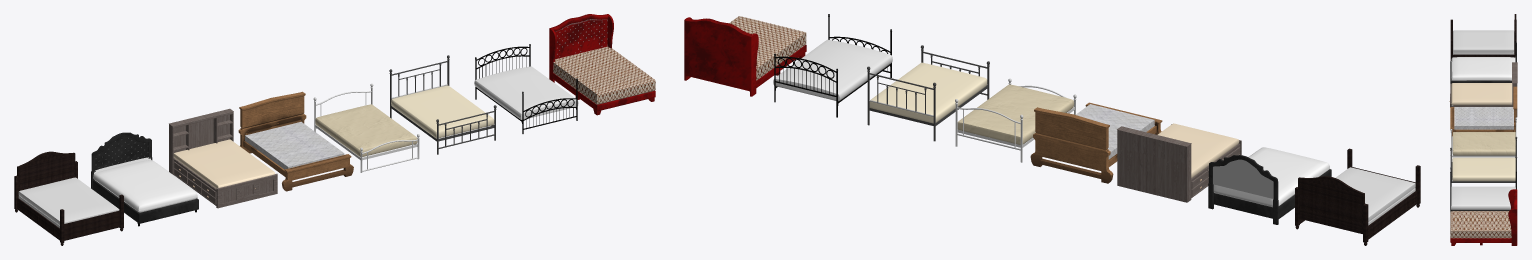
The model's file is double_bed.fbx.
3 renders of one model, left to right at view 1: azimuth 30°, elevation 25°; view 2: azimuth 150°, elevation 25°; view 3: azimuth 270°, elevation 25°, orthographic. The views are drawn at different scales.
Parts seen in each view (by area): view 1: Boles Full Panel Bed with 6 Drawers.001, Yusuf Tufted Upholstered Low Profile Standard Bed.004, double_bed_1, Copper Grove Aanekoski, Boyden Victoria Upholstered Platform Bed, Lyster Platform Bed.001, Mcdonough Canopy Bed, Eichhorn Platform Bed; view 2: Yusuf Tufted Upholstered Low Profile Standard Bed.004, Boles Full Panel Bed with 6 Drawers.001, Copper Grove Aanekoski, double_bed_1, Boyden Victoria Upholstered Platform Bed, Lyster Platform Bed.001, Mcdonough Canopy Bed, Eichhorn Platform Bed; view 3: Yusuf Tufted Upholstered Low Profile Standard Bed.004, Copper Grove Aanekoski, Lyster Platform Bed.001, double_bed_1, Eichhorn Platform Bed, Boles Full Panel Bed with 6 Drawers.001, Boyden Victoria Upholstered Platform Bed, Mcdonough Canopy Bed.
Part boxes in pixels (bbox=[...]): Boles Full Panel Bed with 6 Drawers.001: bbox=[169, 108, 277, 208]; Yusuf Tufted Upholstered Low Profile Standard Bed.004: bbox=[549, 14, 655, 115]; double_bed_1: bbox=[238, 91, 353, 191]; Copper Grove Aanekoski: bbox=[14, 151, 123, 245]; Boyden Victoria Upholstered Platform Bed: bbox=[91, 132, 198, 226]; Lyster Platform Bed.001: bbox=[389, 55, 496, 154]; Mcdonough Canopy Bed: bbox=[474, 44, 578, 133]; Eichhorn Platform Bed: bbox=[313, 83, 419, 172]; Yusuf Tufted Upholstered Low Profile Standard Bed.004: bbox=[684, 16, 806, 96]; Boles Full Panel Bed with 6 Drawers.001: bbox=[1117, 123, 1241, 202]; Copper Grove Aanekoski: bbox=[1295, 148, 1420, 245]; double_bed_1: bbox=[1030, 102, 1162, 183]; Boyden Victoria Upholstered Platform Bed: bbox=[1208, 147, 1331, 224]; Lyster Platform Bed.001: bbox=[867, 45, 989, 141]; Mcdonough Canopy Bed: bbox=[773, 14, 892, 117]; Eichhorn Platform Bed: bbox=[955, 78, 1076, 162]; Yusuf Tufted Upholstered Low Profile Standard Bed.004: bbox=[1450, 189, 1517, 245]; Copper Grove Aanekoski: bbox=[1450, 14, 1516, 60]; Lyster Platform Bed.001: bbox=[1450, 136, 1517, 188]; double_bed_1: bbox=[1450, 86, 1517, 136]; Eichhorn Platform Bed: bbox=[1450, 117, 1516, 161]; Boles Full Panel Bed with 6 Drawers.001: bbox=[1449, 62, 1517, 116]; Boyden Victoria Upholstered Platform Bed: bbox=[1450, 42, 1516, 83]; Mcdonough Canopy Bed: bbox=[1450, 171, 1516, 211].
Bounding box in the file's own units: 17.04 × 1.59 × 2.45.
